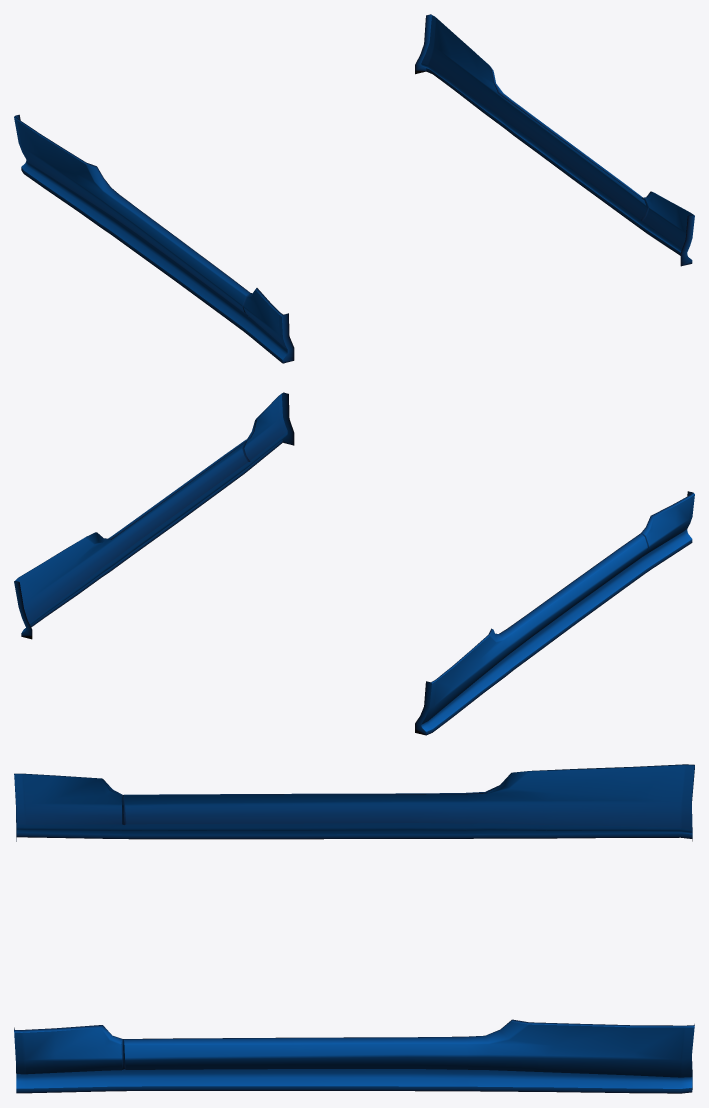
File: R34_Skirt04_Duco.fbx
3 renders of one model, top to bottom at view 1: azimuth 30°, elevation 25°; view 2: azimuth 150°, elevation 25°; view 3: azimuth 270°, elevation 25°, orthographic. The views are drawn at different scales.
Visible parts, largest first — view 1: R34_Skirt04_Duco; view 2: R34_Skirt04_Duco; view 3: R34_Skirt04_Duco.
Boxes of the visible parts, x1,y1,x2,y2 form: R34_Skirt04_Duco: [14, 14, 694, 363]; R34_Skirt04_Duco: [14, 392, 694, 735]; R34_Skirt04_Duco: [14, 764, 694, 1093].
Size of the model in its own units: 176 by 22.12 by 193.
